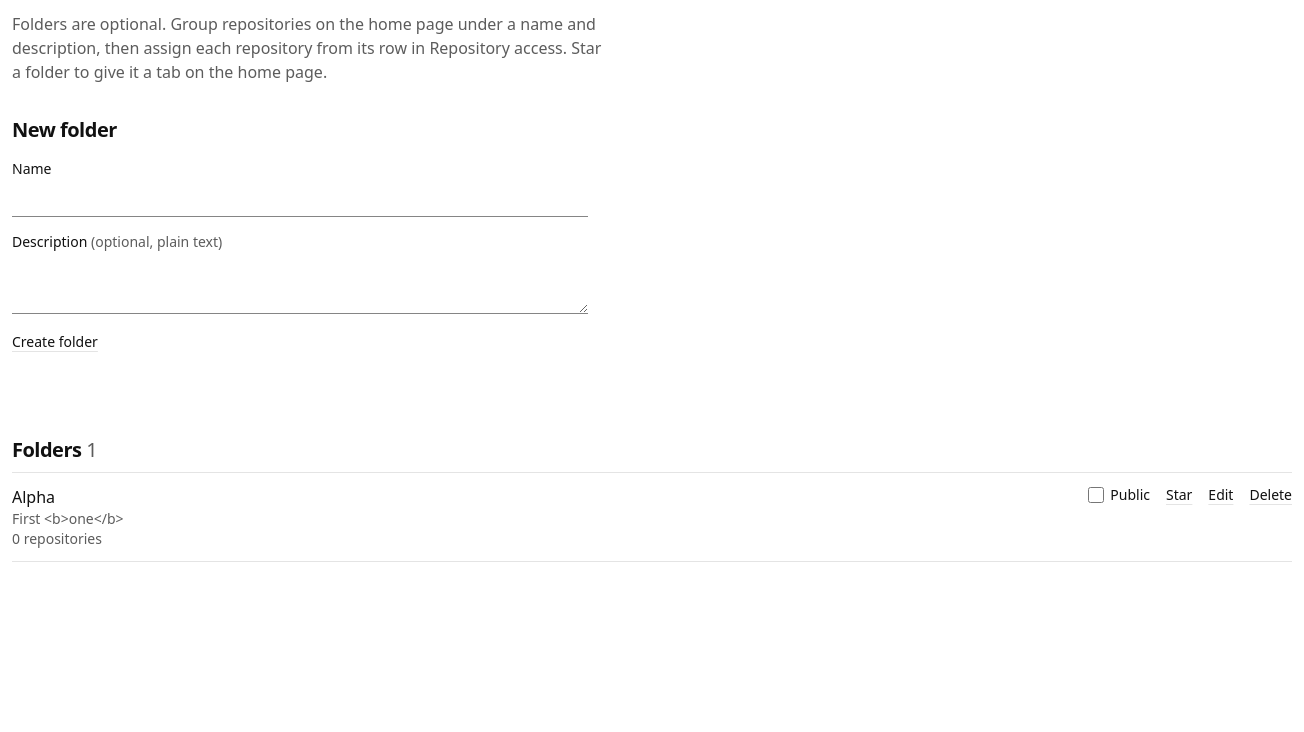
Test: FolderManager public access › shows a failure and keeps the folder as it was
This screenshot has width=1304, height=732.
Click the switch named "Public access for Alpha".
click(1096, 495)  # box [1088, 487, 1104, 503]
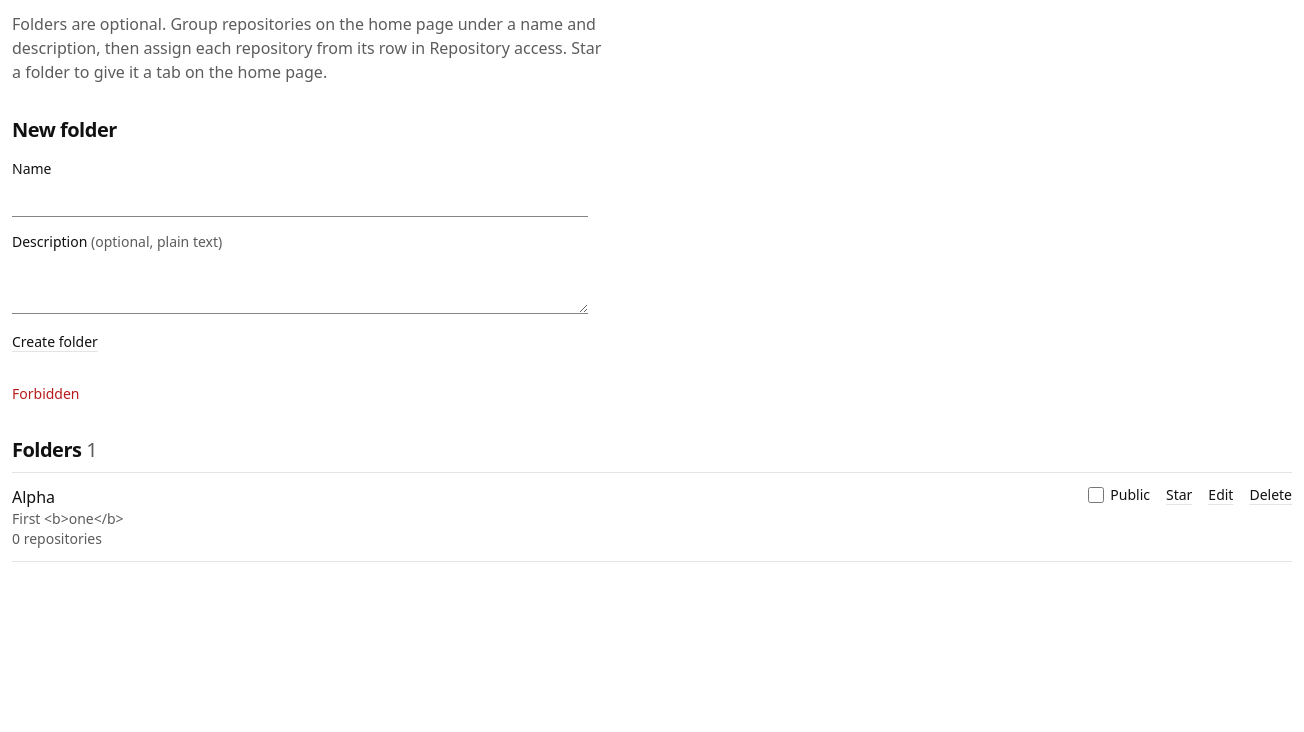
Check: the text "Forbidden" is shown, box [12, 384, 80, 403]
